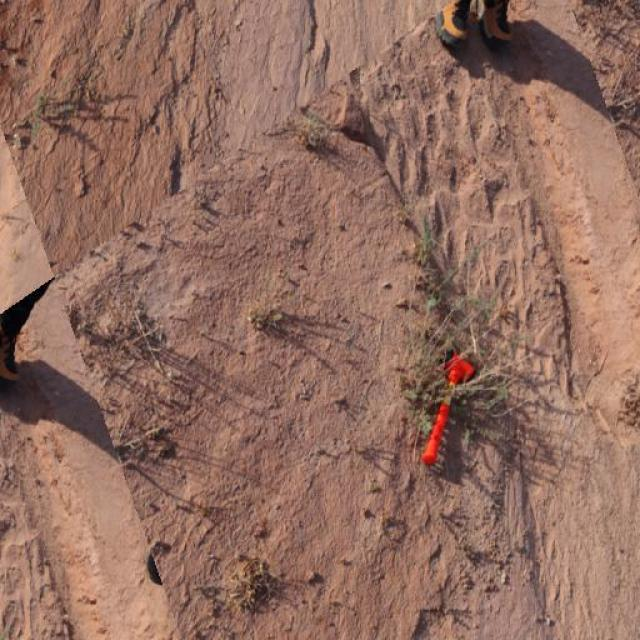mallet: (422, 352, 476, 466)
